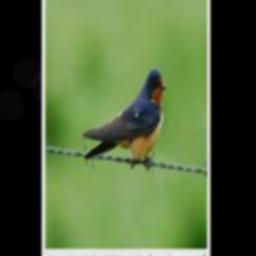Swallow: (82, 68, 167, 162)
